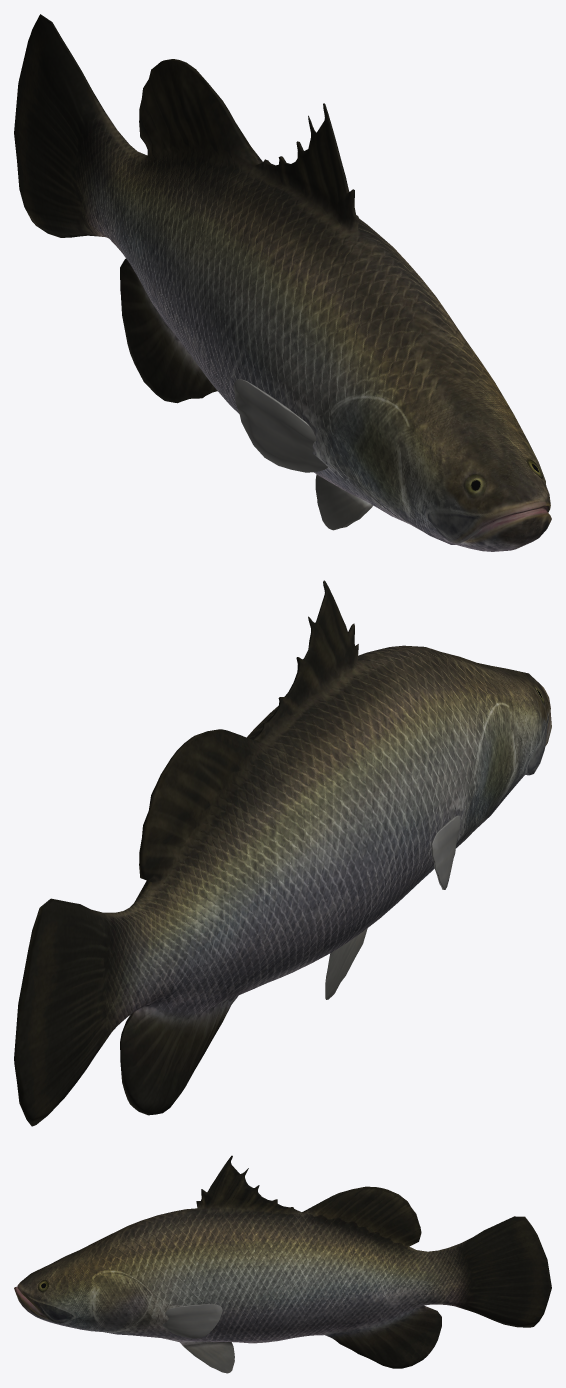
The model's file is BarramundiFish.dae.
3 views of the same model, one above another, from view 1: azimuth 30°, elevation 25°; view 2: azimuth 150°, elevation 25°; view 3: azimuth 270°, elevation 25° (orthographic). The views are drawn at different scales.
Visible parts, largest first — view 1: barramundi_fish_Hero; view 2: barramundi_fish_Hero; view 3: barramundi_fish_Hero.
Boxes of the visible parts, left/top/right/bottom form: barramundi_fish_Hero: left=14, top=14, right=551, bottom=551; barramundi_fish_Hero: left=14, top=580, right=551, bottom=1126; barramundi_fish_Hero: left=14, top=1155, right=551, bottom=1373.
Size of what is drawn, in the model's own units: 14.29 by 28.75 by 64.31.
Materials: 1 (1 with a texture image).
